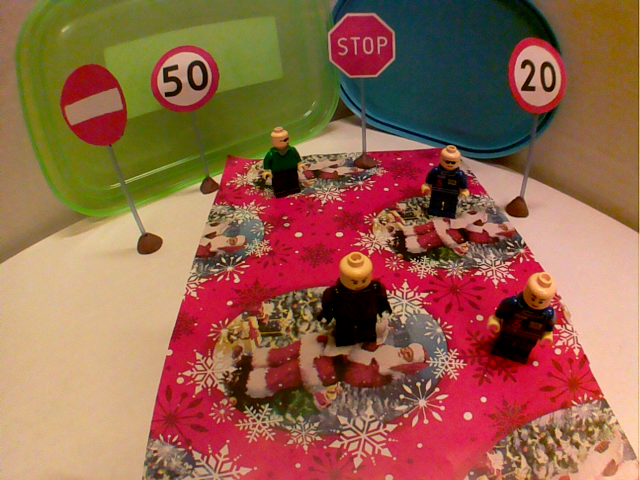Ograniczenie 20: (504, 34, 571, 118)
Ograniczenie 50: (147, 43, 222, 117)
Postac LEGO: (316, 247, 397, 354), (482, 268, 562, 367), (419, 141, 473, 222), (261, 123, 310, 203)
Stop: (322, 10, 401, 82)
Zakaz: (55, 60, 130, 150)
